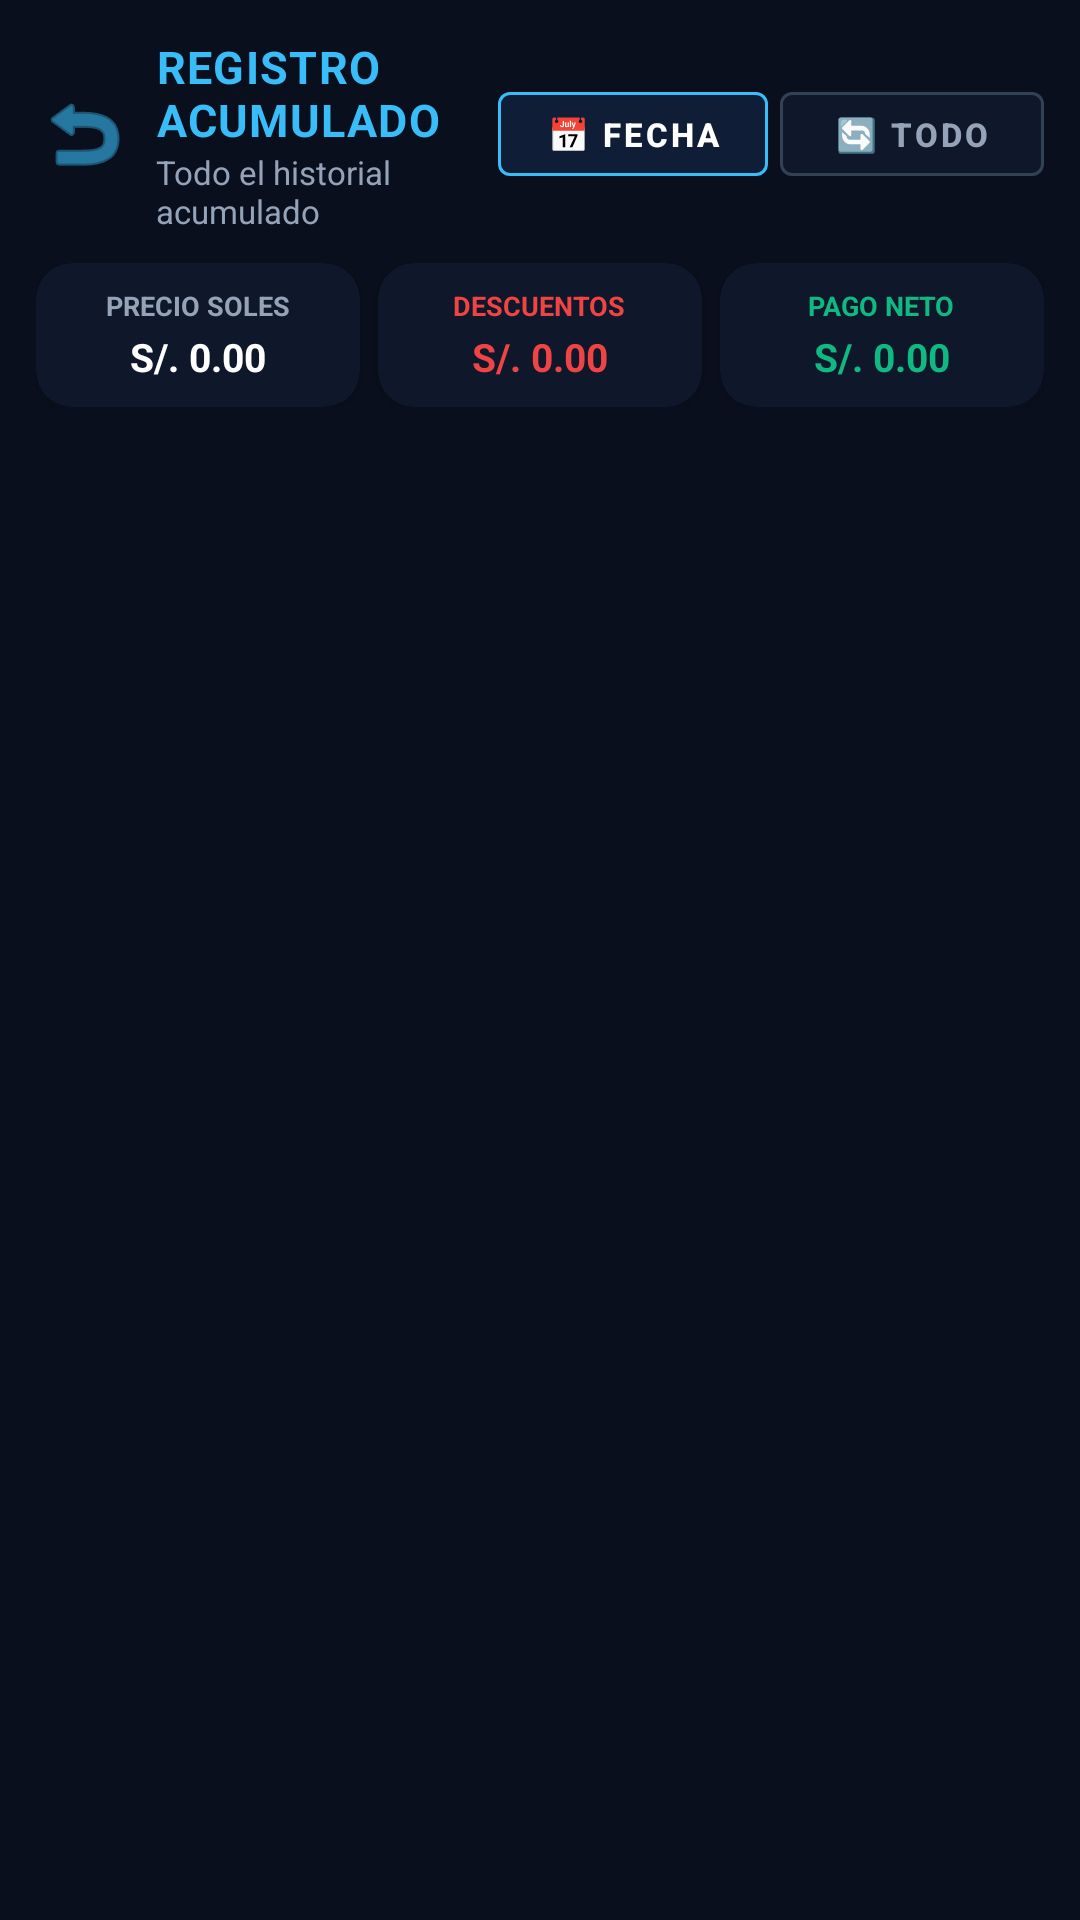

Icons on this 1080×1920 Android screen, each with the point to tap as (x=x, y=y):
revert: (x=85, y=134)
